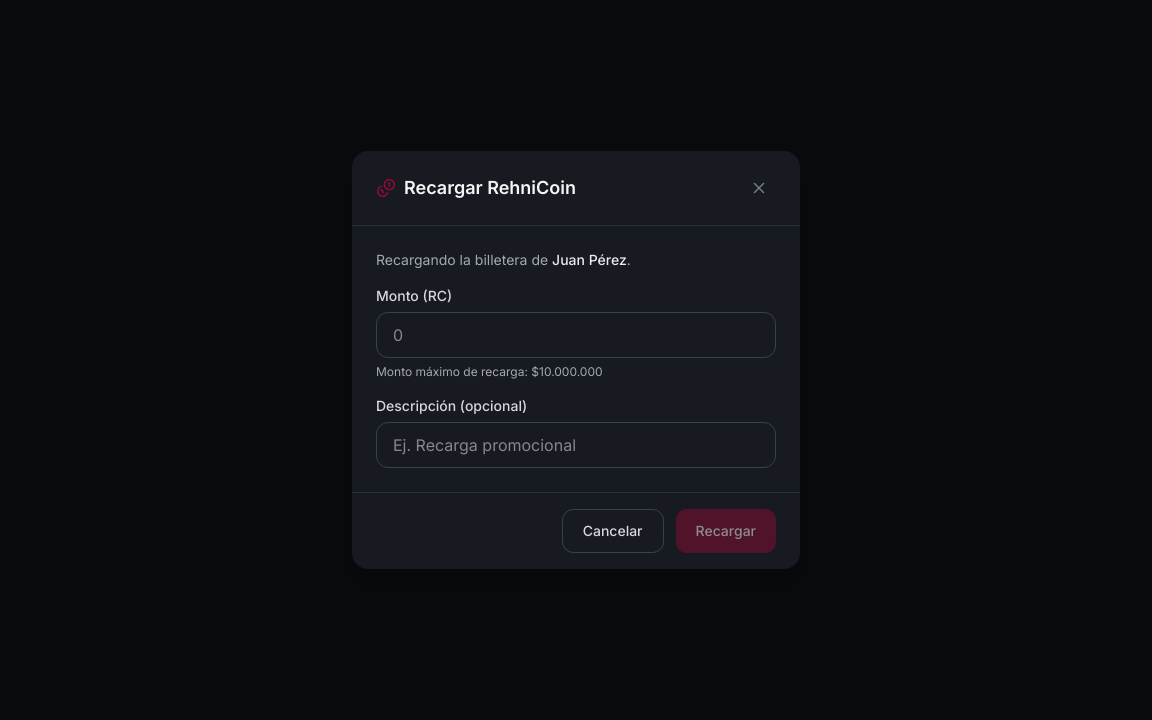
Test: RechargeWalletModal · límite de recarga › impide confirmar $10.000.001 y muestra el mensaje del límite
The width and height of the screenshot is (1152, 720).
Type "10000001" into the field with placeholder "0" at (576, 335), box [376,312,776,358]
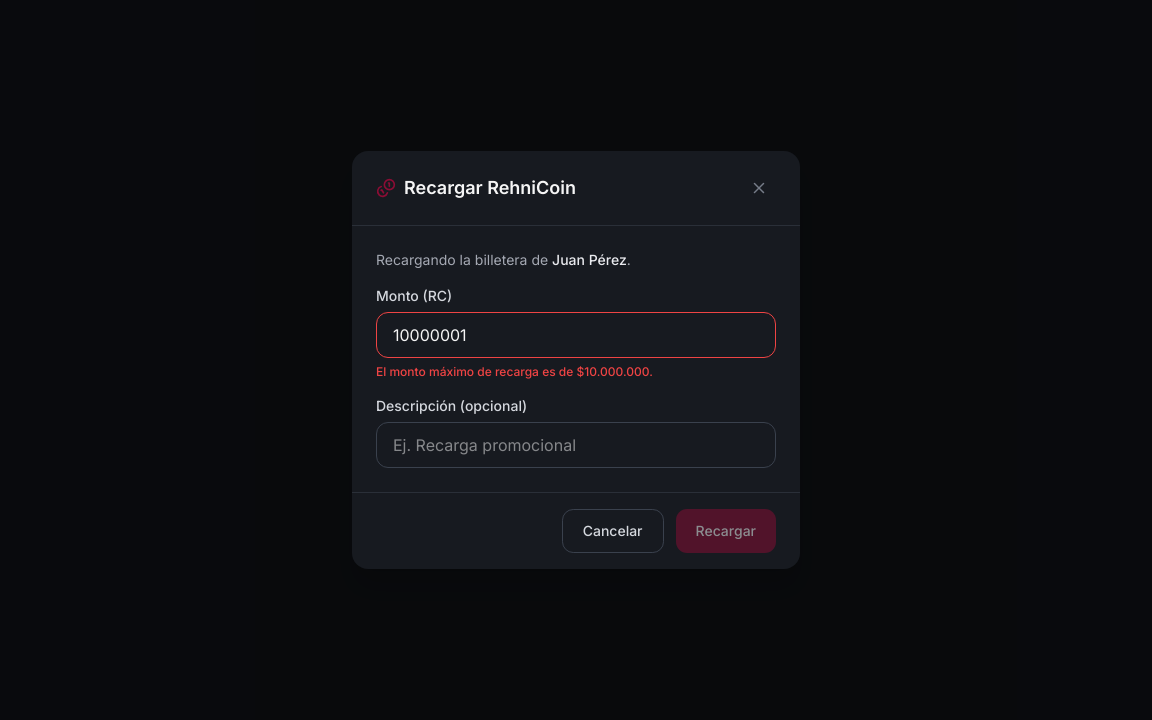
Expected: the button "Recargar" is disabled, [676,509,776,553]
Now the text "El monto máximo de recarga es de $10.000.000." is shown, box [376,364,653,379]
